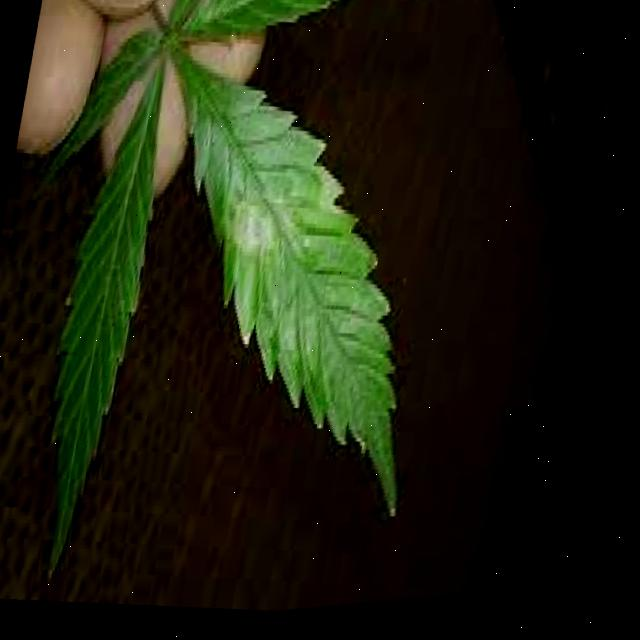cannabis: (34, 0, 397, 570)
